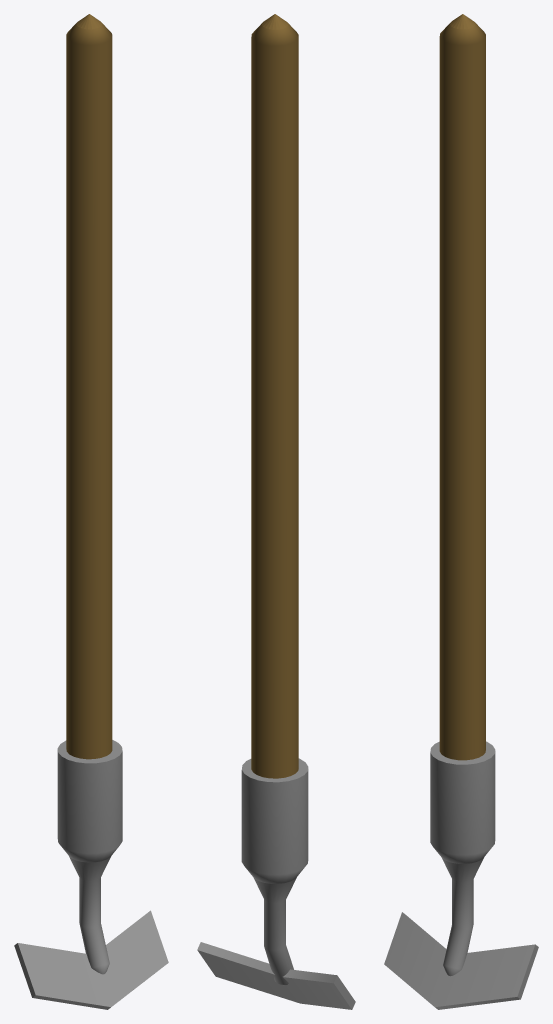
Rendered from Schoffel.fbx.
3 views of the same model, side by side, from view 1: azimuth 30°, elevation 25°; view 2: azimuth 150°, elevation 25°; view 3: azimuth 330°, elevation 25° (orthographic). The views are drawn at different scales.
Parts seen in each view (by area): view 1: polySurface11; view 2: polySurface11; view 3: polySurface11.
Part boxes in pixels (x1,y1,x2,y2): polySurface11: (14,14,168,1009); polySurface11: (197,14,355,1009); polySurface11: (384,14,538,1009).
Size of the model in its own units: 1 by 7.03 by 0.5323.
